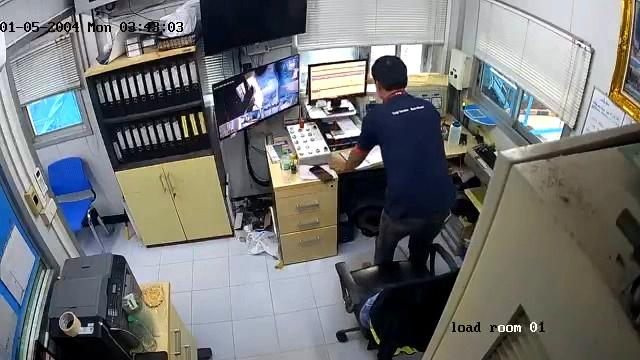Head: (369, 55, 412, 94)
People: (341, 55, 452, 254)
Phone: (308, 164, 334, 183)
